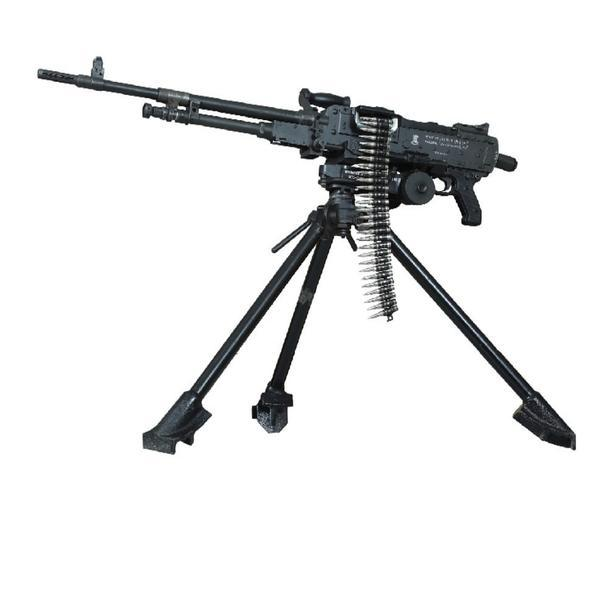Firearm: (27, 46, 585, 361)
